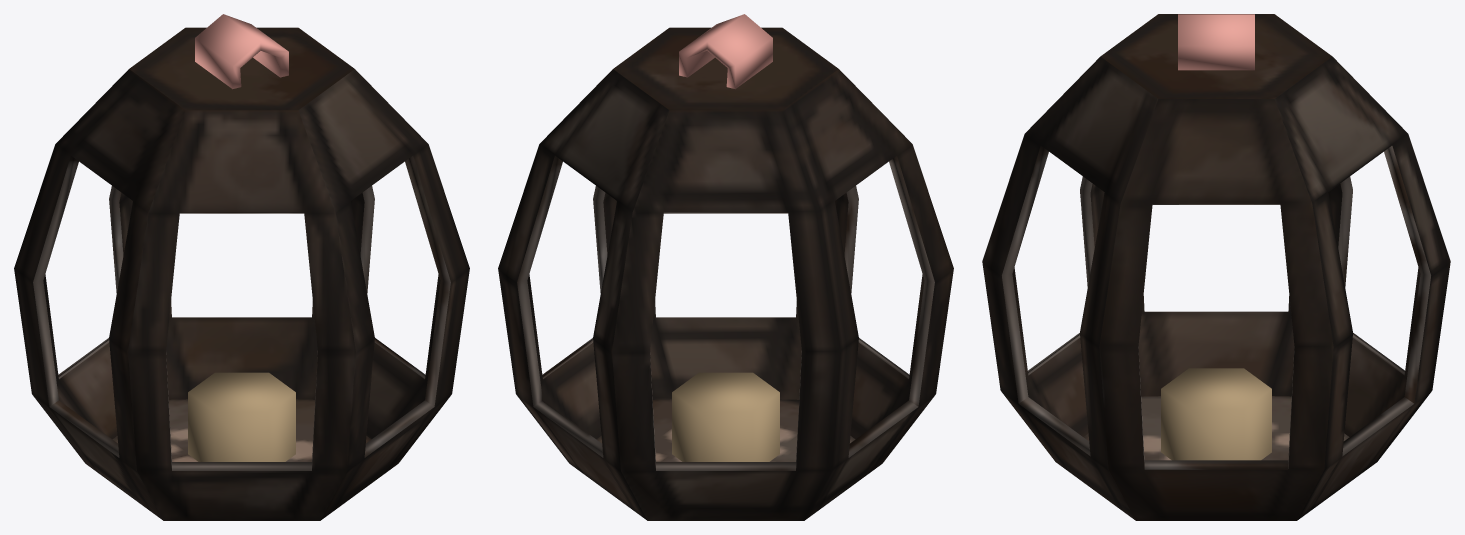
The model's file is lantern.glb.
3 views of the same model, side by side, from view 1: azimuth 30°, elevation 25°; view 2: azimuth 150°, elevation 25°; view 3: azimuth 270°, elevation 25° (orthographic). The views are drawn at different scales.
Visible parts, largest first — view 1: Cylinder, Cylinder.002, Cylinder.001; view 2: Cylinder, Cylinder.002, Cylinder.001; view 3: Cylinder, Cylinder.002, Cylinder.001.
Part boxes in pixels (x1,y1,x2,y2): Cylinder: [14, 27, 469, 520]; Cylinder.002: [188, 372, 295, 461]; Cylinder.001: [195, 14, 288, 89]; Cylinder: [498, 27, 953, 520]; Cylinder.002: [672, 372, 779, 461]; Cylinder.001: [679, 14, 772, 89]; Cylinder: [982, 14, 1450, 520]; Cylinder.002: [1161, 368, 1271, 460]; Cylinder.001: [1178, 14, 1254, 70].
Size of the model in its own units: 0.9543 by 1.16 by 1.1.
3 materials, 1 textured.
